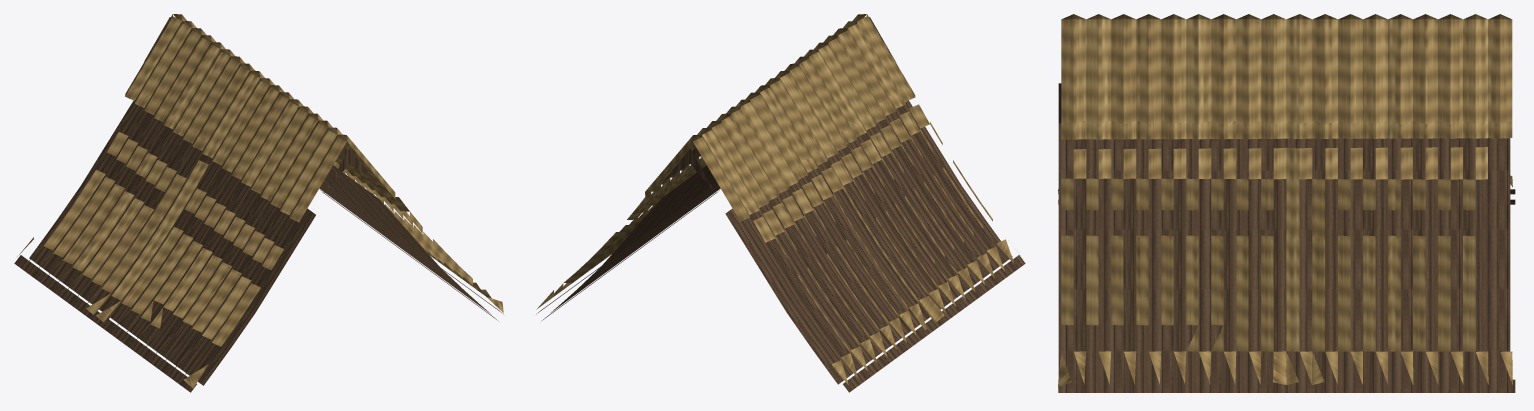
File: Roof_Thatch_8x8_LOD1.gltf
3 views of the same model, side by side, from view 1: azimuth 30°, elevation 25°; view 2: azimuth 150°, elevation 25°; view 3: azimuth 270°, elevation 25° (orthographic). The views are drawn at different scales.
Visible parts, largest first — view 1: Roof_Thatch_8x8_LOD1; view 2: Roof_Thatch_8x8_LOD1; view 3: Roof_Thatch_8x8_LOD1.
Boxes of the visible parts, x1,y1,x2,y2 form: Roof_Thatch_8x8_LOD1: (14, 14, 503, 392); Roof_Thatch_8x8_LOD1: (536, 14, 1025, 392); Roof_Thatch_8x8_LOD1: (1058, 14, 1515, 392).
Bounding box in the file's own units: 9.95 × 6.54 × 9.71.
2 materials, 2 textured.
